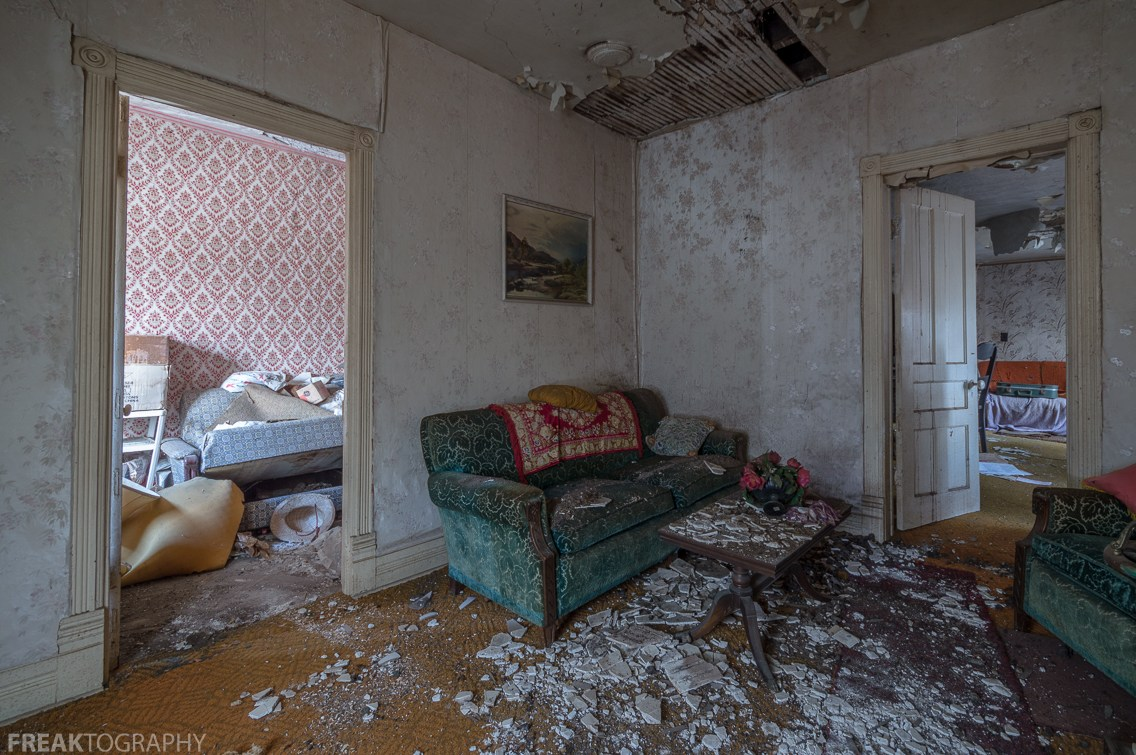chair: (415, 384, 752, 625)
